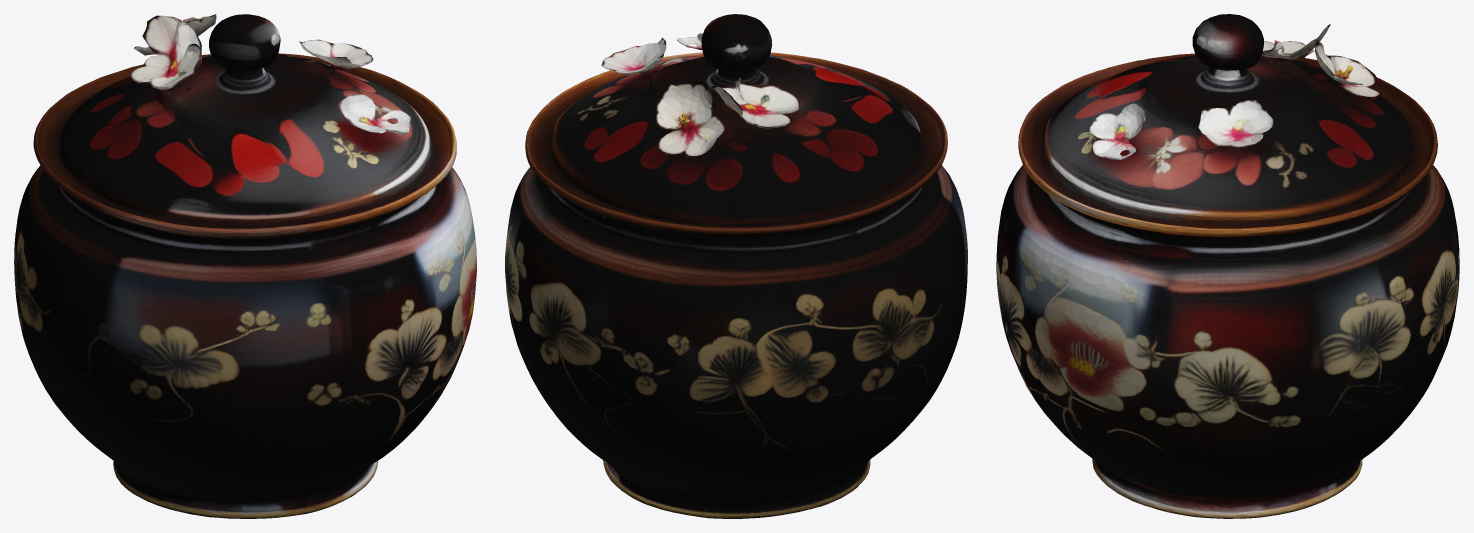
Rendered from ceramic-tea-storage-japanese.jpeg.glb.
3 renders of one model, left to right at view 1: azimuth 30°, elevation 25°; view 2: azimuth 150°, elevation 25°; view 3: azimuth 270°, elevation 25°, orthographic.
Parts seen in each view (by area): view 1: world; view 2: world; view 3: world.
Part boxes in pixels (x1=…): world: x1=14, y1=14, x2=476, y2=518; world: x1=505, y1=14, x2=967, y2=518; world: x1=996, y1=14, x2=1459, y2=518.
Size of the model in its own units: 0.9461 by 1 by 0.9475.
1 material, 1 textured.
